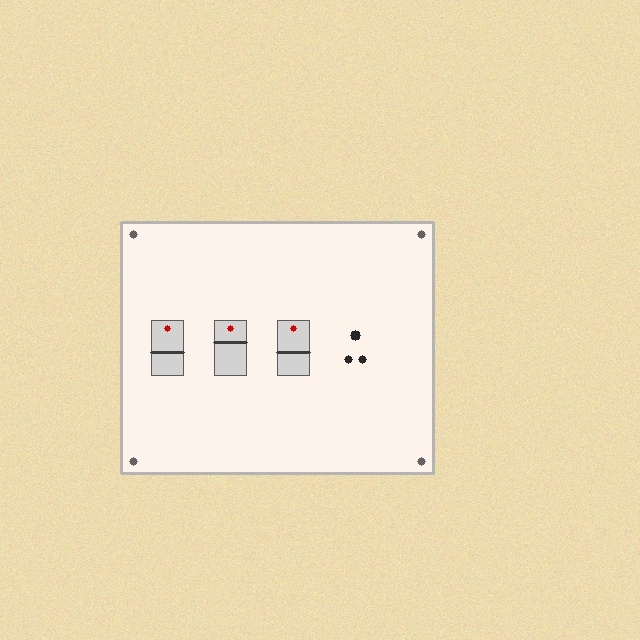switchboard: (121, 222, 433, 473)
